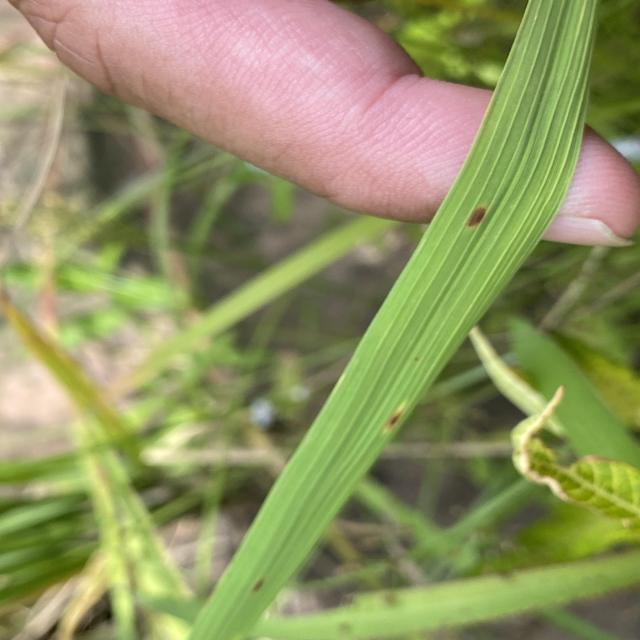Dom nau: (466, 204, 490, 228), (384, 410, 407, 431), (249, 577, 266, 594)
